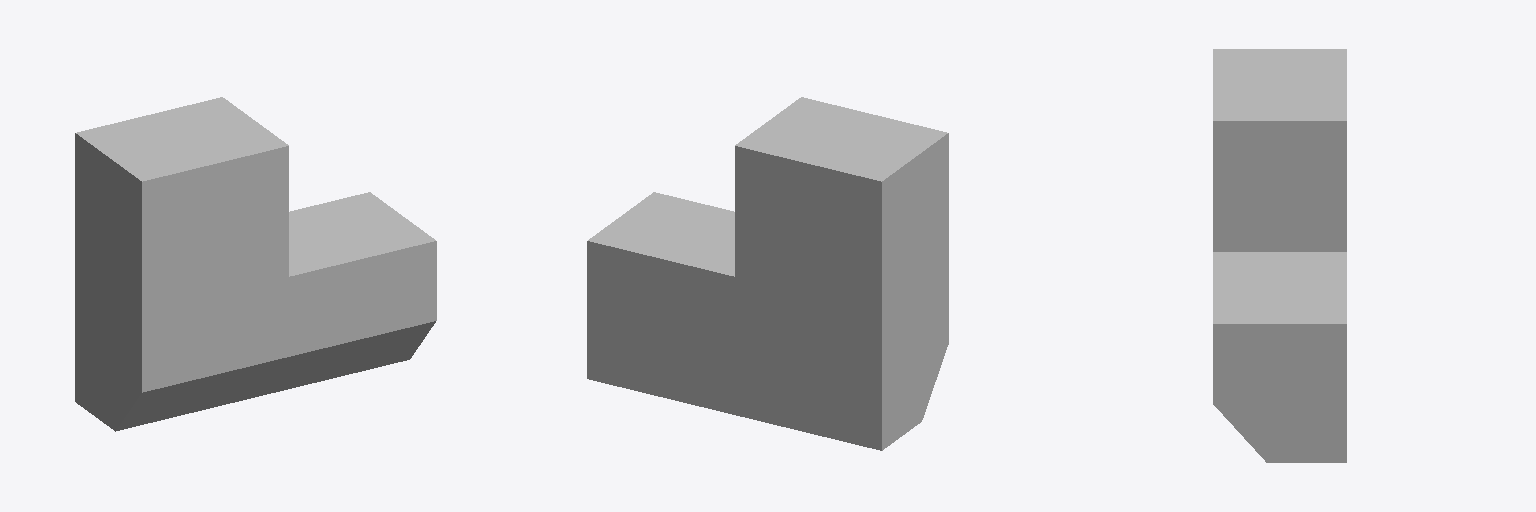
File: concord2.obj
The picture shows the model from 3 angles: view 1: azimuth 30°, elevation 25°; view 2: azimuth 150°, elevation 25°; view 3: azimuth 270°, elevation 25°; orthographic projection.
Visible parts, largest first — view 1: ceil_back_Body1.028, left_back_Body1.025, back2_back_Body1.024, slope_back_Body1.027, back1_back_Body1.022; view 2: floor_back_Body1.029, left_back_Body1.025, back2_back_Body1.024, back1_back_Body1.022; view 3: right2_back_Body1.023, right1_back_Body1.021, back1_back_Body1.022, back2_back_Body1.024.
Boxes of the visible parts, x1=… form: ceil_back_Body1.028: x1=142, y1=146, x2=436, y2=392; left_back_Body1.025: x1=75, y1=133, x2=141, y2=430; back2_back_Body1.024: x1=76, y1=97, x2=288, y2=181; slope_back_Body1.027: x1=115, y1=321, x2=435, y2=431; back1_back_Body1.022: x1=289, y1=192, x2=435, y2=276; floor_back_Body1.029: x1=587, y1=146, x2=881, y2=450; left_back_Body1.025: x1=882, y1=133, x2=948, y2=450; back2_back_Body1.024: x1=735, y1=97, x2=947, y2=181; back1_back_Body1.022: x1=588, y1=192, x2=734, y2=276; right2_back_Body1.023: x1=1213, y1=121, x2=1346, y2=251; right1_back_Body1.021: x1=1213, y1=324, x2=1346, y2=462; back1_back_Body1.022: x1=1213, y1=252, x2=1346, y2=323; back2_back_Body1.024: x1=1213, y1=49, x2=1346, y2=120.
Bounding box in the file's own units: 12.43 × 10.86 × 4.88.